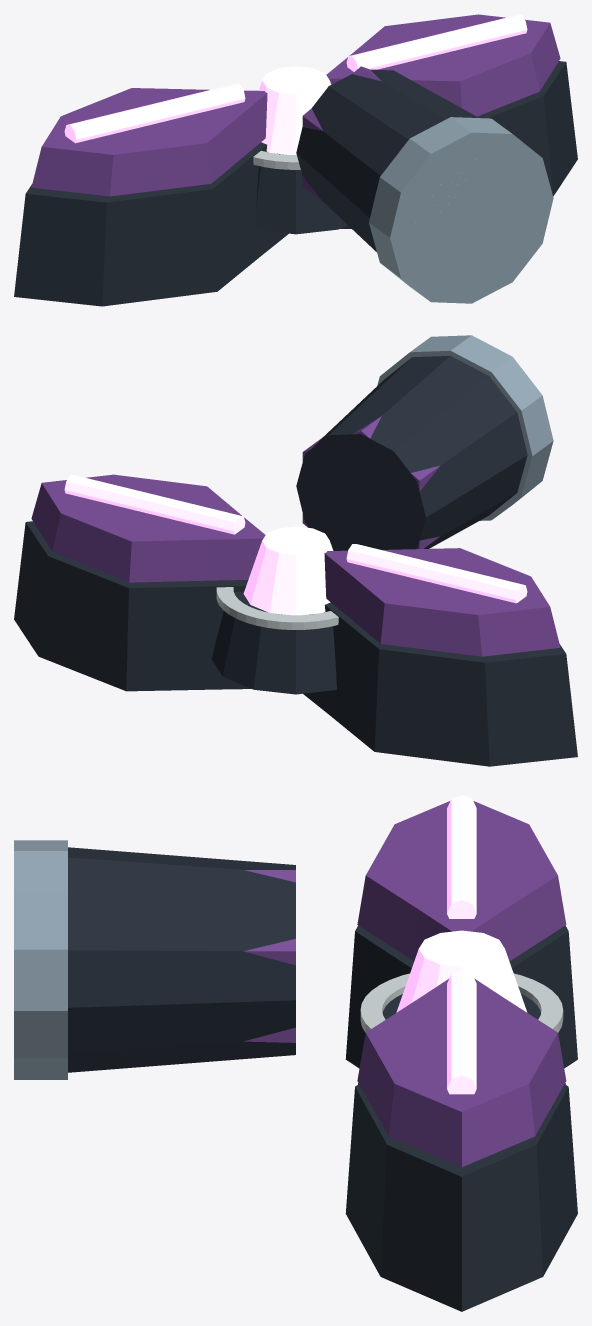
Rendered from c5_hiveDrone.glb.
3 renders of one model, top to bottom at view 1: azimuth 30°, elevation 25°; view 2: azimuth 150°, elevation 25°; view 3: azimuth 270°, elevation 25°, orthographic. The views are drawn at different scales.
Parts seen in each view (by area): view 1: hiveDrone / Chassis, hiveDrone / Armor, hiveDrone / Titanium, hiveDrone / Energy, hiveDrone / Identification; view 2: hiveDrone / Chassis, hiveDrone / Armor, hiveDrone / Energy, hiveDrone / Titanium, hiveDrone / Identification; view 3: hiveDrone / Chassis, hiveDrone / Armor, hiveDrone / Titanium, hiveDrone / Energy, hiveDrone / Identification.
Boxes of the visible parts, left/top/right/bottom form: hiveDrone / Chassis: left=14, top=61, right=577, bottom=306; hiveDrone / Armor: left=31, top=14, right=560, bottom=201; hiveDrone / Titanium: left=369, top=117, right=553, bottom=303; hiveDrone / Energy: left=64, top=15, right=527, bottom=154; hiveDrone / Identification: left=253, top=150, right=300, bottom=169; hiveDrone / Chassis: left=14, top=356, right=577, bottom=766; hiveDrone / Armor: left=31, top=416, right=560, bottom=656; hiveDrone / Energy: left=64, top=475, right=527, bottom=615; hiveDrone / Titanium: left=377, top=335, right=553, bottom=520; hiveDrone / Identification: left=216, top=587, right=338, bottom=629; hiveDrone / Chassis: left=68, top=847, right=577, bottom=1311; hiveDrone / Armor: left=243, top=801, right=566, bottom=1167; hiveDrone / Titanium: left=14, top=840, right=67, bottom=1079; hiveDrone / Energy: left=396, top=795, right=527, bottom=1094; hiveDrone / Identification: left=360, top=973, right=563, bottom=1032.
Size of the model in its own units: 1 by 0.38 by 0.68.
